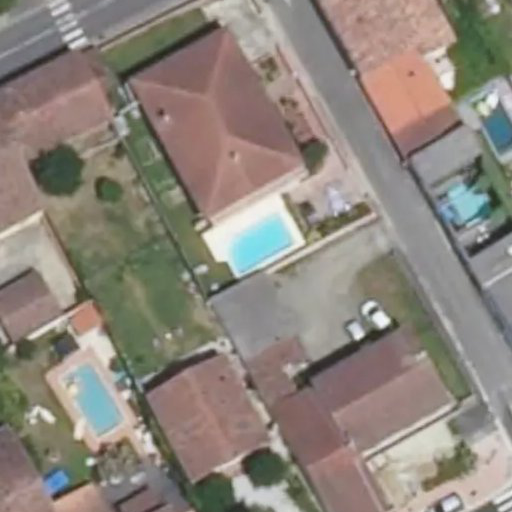pool: (218, 240, 293, 243)
